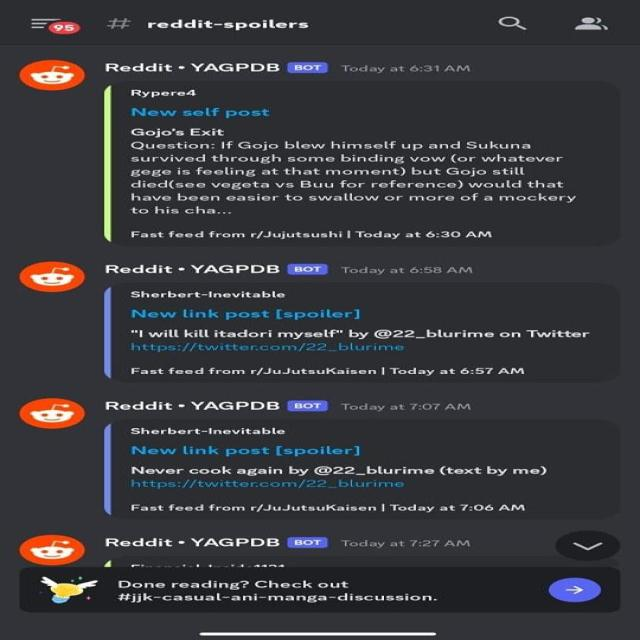BackgroundImage: (105, 83, 627, 246), (101, 283, 627, 382), (107, 421, 626, 518), (24, 568, 622, 612)
Drawer: (560, 530, 617, 563), (549, 576, 604, 605), (29, 17, 83, 35), (575, 14, 610, 34), (496, 16, 530, 32)
EditText: (15, 259, 88, 295), (19, 533, 88, 566), (41, 572, 102, 609), (19, 59, 86, 91), (21, 398, 86, 430)
Icon: (128, 444, 364, 458), (127, 341, 406, 352), (130, 308, 366, 320), (126, 479, 408, 488), (132, 106, 274, 120)
Modal: (129, 127, 582, 216), (113, 578, 445, 606), (128, 328, 594, 341), (130, 464, 548, 476), (127, 366, 528, 376), (130, 229, 497, 239), (127, 503, 530, 512), (104, 15, 314, 32), (130, 288, 288, 302), (339, 63, 474, 74), (342, 538, 476, 549), (130, 427, 289, 436), (339, 402, 478, 412), (344, 266, 478, 276), (130, 89, 200, 98)
